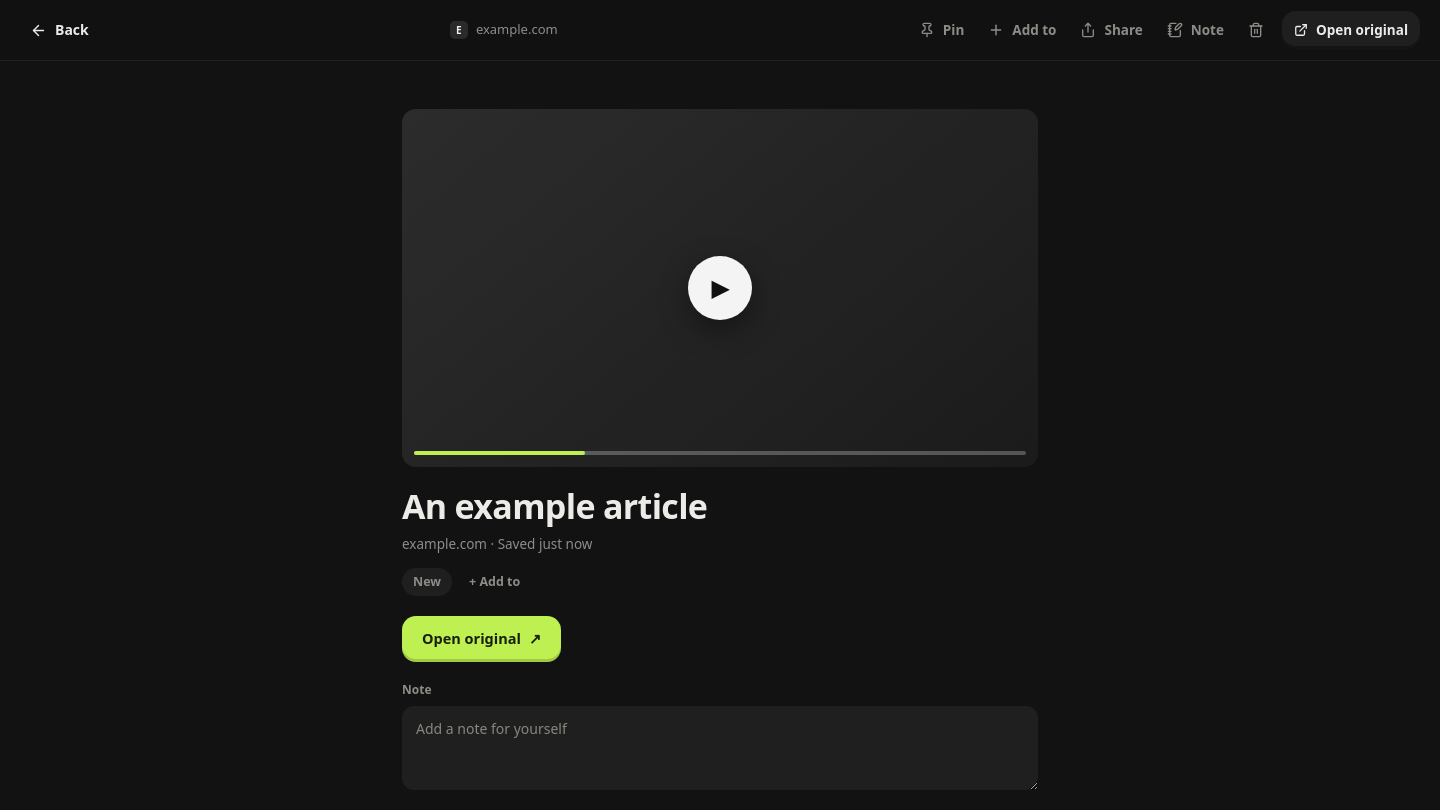
Test case: the note on the page › saves when the page is left before the pause
The width and height of the screenshot is (1440, 810).
Type "read on the train" into the text box labelled "Note" at {"x": 720, "y": 748}, box [402, 706, 1038, 790]
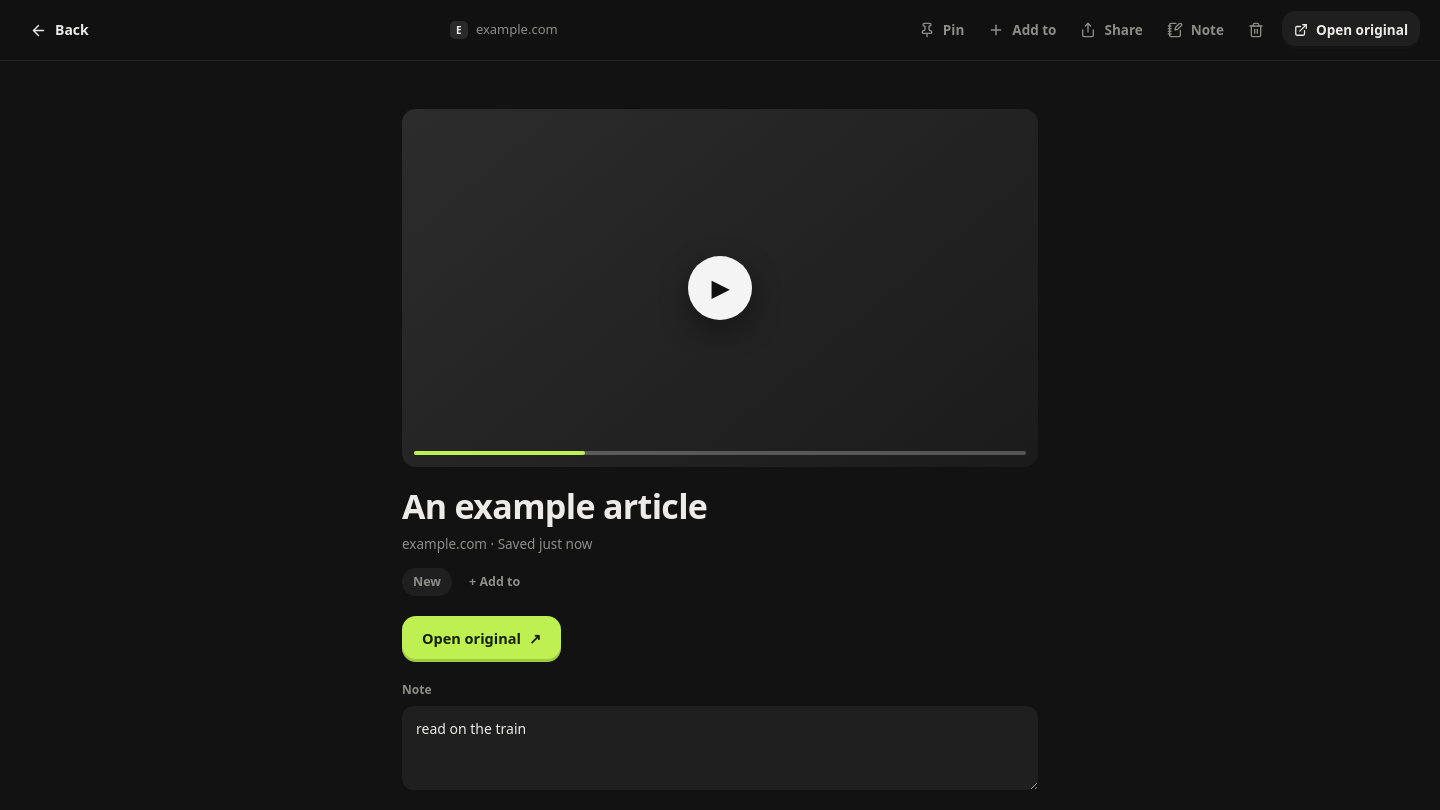
Click the button "Back" at {"x": 59, "y": 30}, box [20, 11, 99, 49]
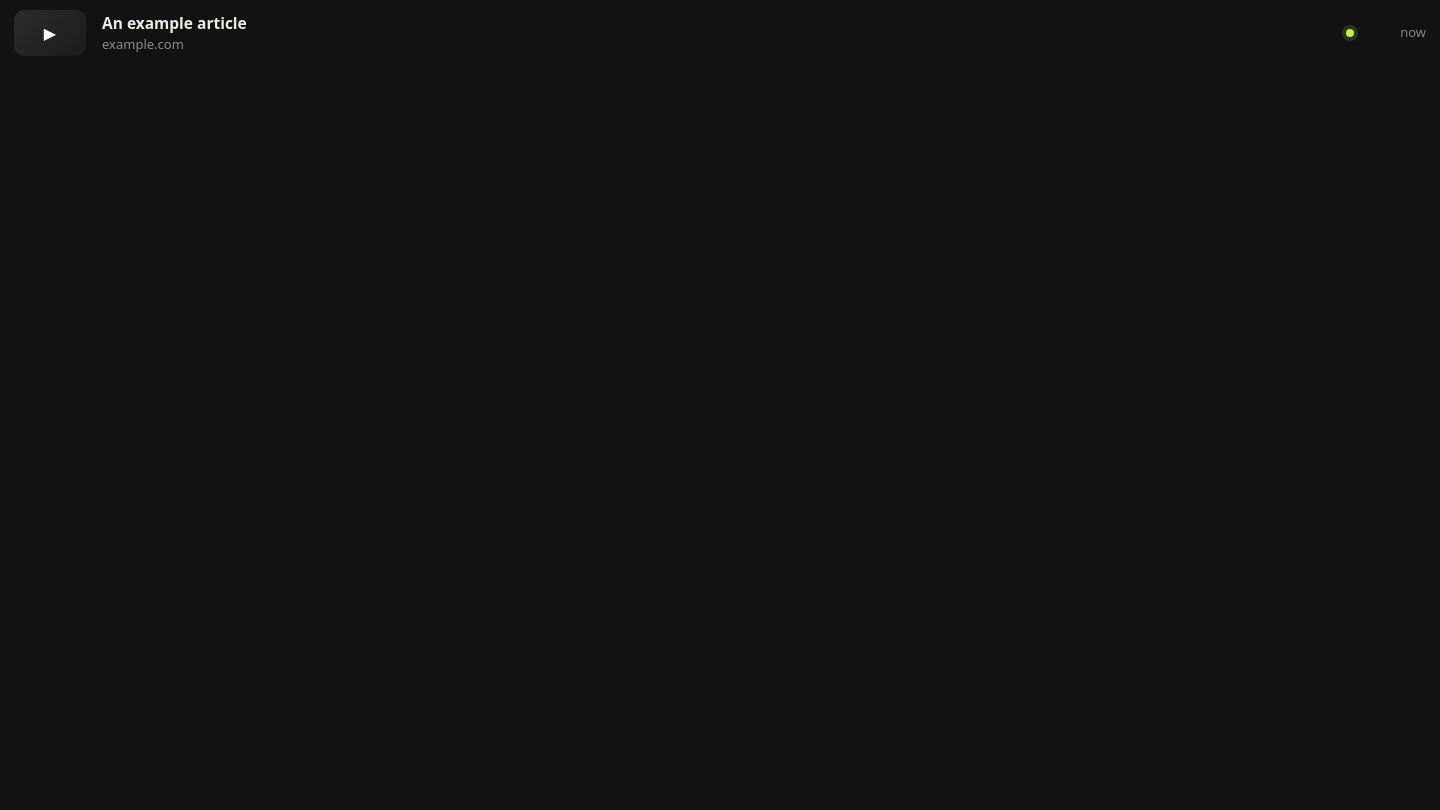
Result: the button "Note" is gone
